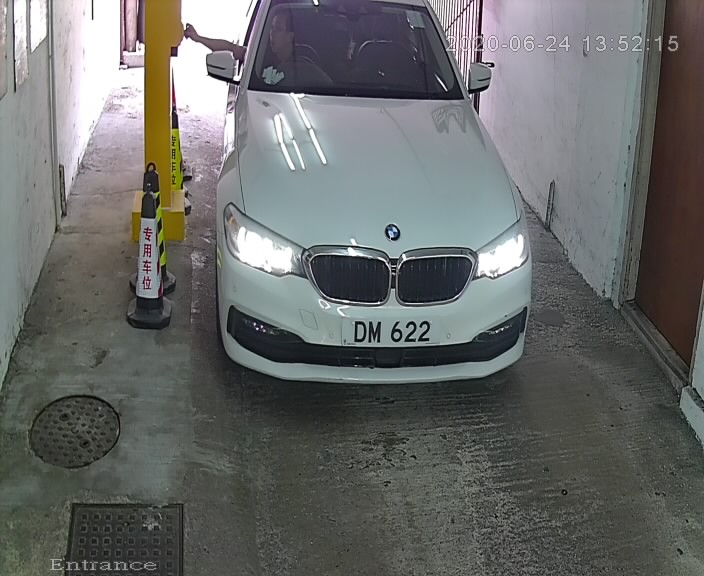Car: (200, 1, 548, 404)
License Plate: (335, 312, 450, 353)
